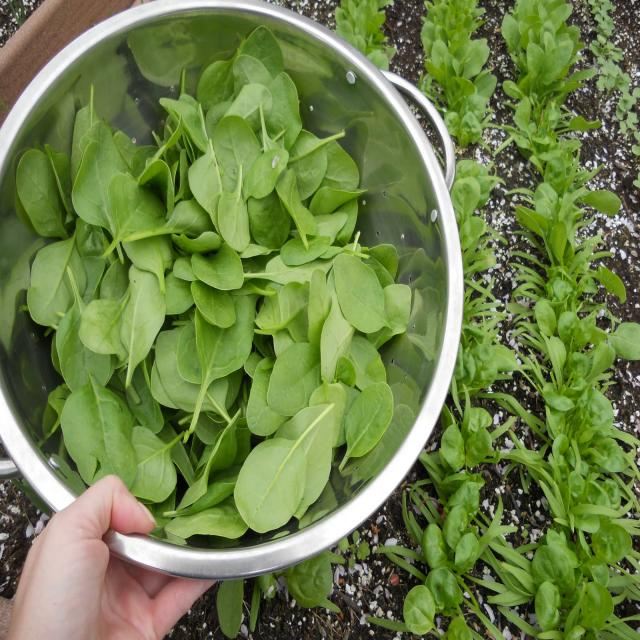spinach: (236, 437, 309, 530), (64, 388, 136, 480), (336, 254, 387, 334), (345, 382, 395, 460), (121, 277, 167, 359), (136, 427, 179, 510), (111, 174, 157, 247), (267, 341, 313, 409), (75, 138, 109, 225), (213, 114, 260, 176), (27, 247, 62, 325), (54, 346, 114, 386), (197, 331, 247, 378), (219, 188, 252, 254), (196, 256, 247, 292), (196, 295, 240, 331)
